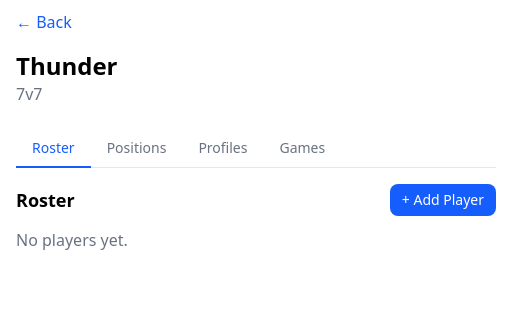
Test case: TeamDetail › switches tabs
The image size is (513, 321).
Expected: the tab "Roster" is shown, [16, 130, 91, 168]
Click the tab "Positions". click: [136, 149]
box: [91, 130, 182, 168]
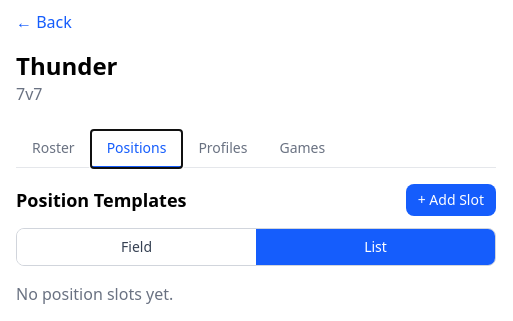
Expected: the heading "Position Templates" is shown, [16, 186, 186, 214]
Click the tab "Profiles". click: [223, 149]
box: [182, 130, 264, 168]
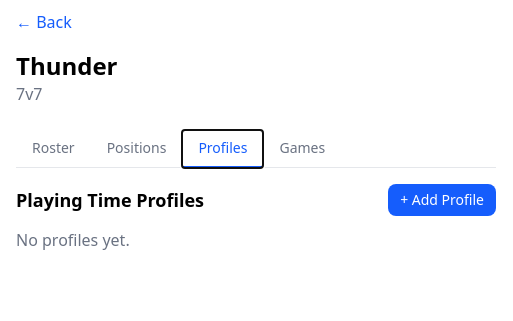
Expected: the heading "Playing Time Profiles" is shown, [16, 186, 204, 214]
Click the tab "Games". click: [302, 149]
box: [264, 130, 341, 168]
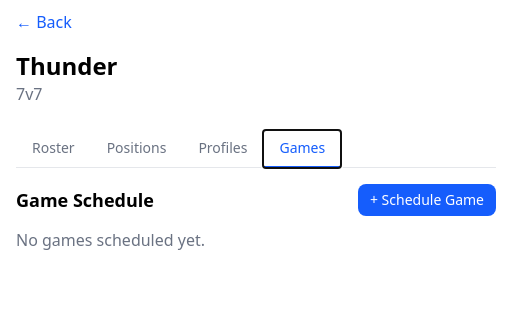
Expected: the heading "Game Schedule" is shown, [16, 186, 154, 214]
